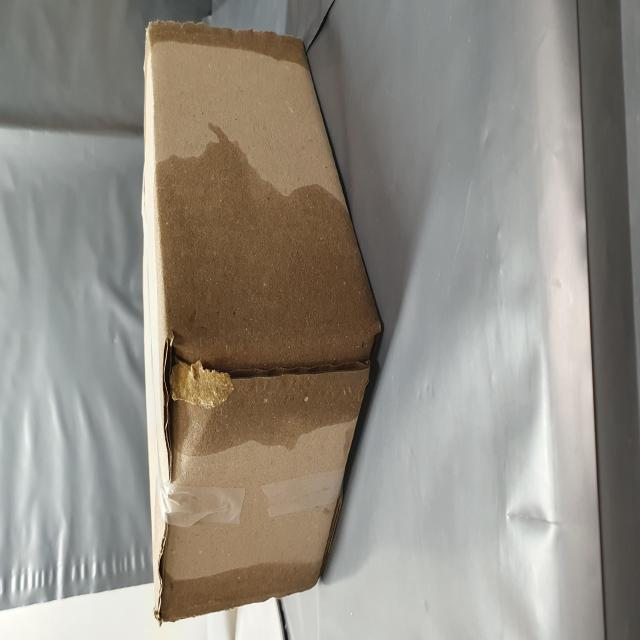wet: (86, 272, 281, 640)
